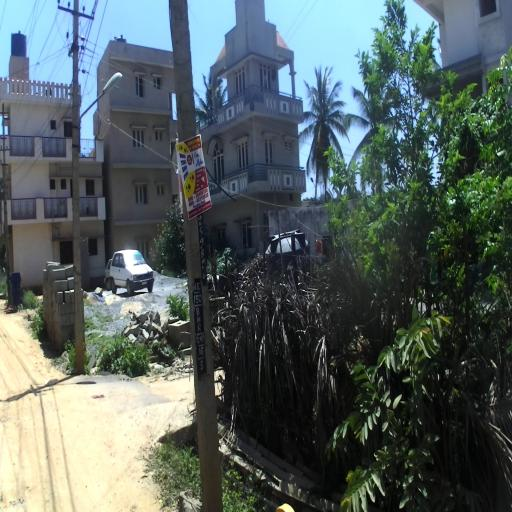street_light_0: (72, 72, 123, 154)
